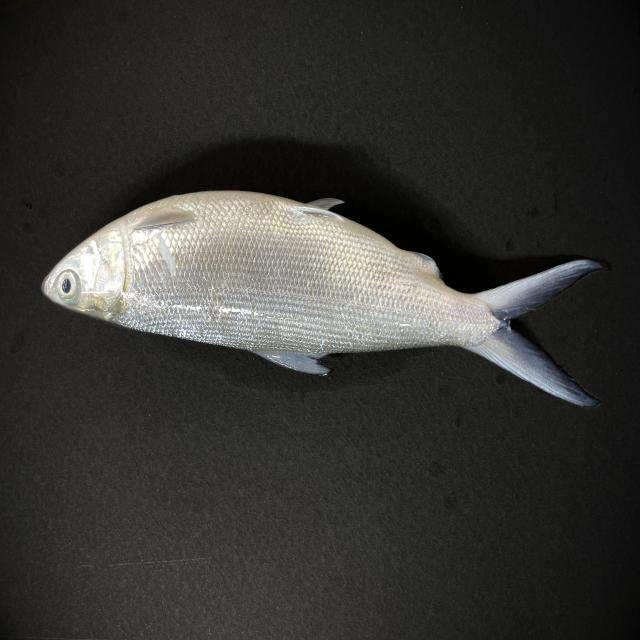675 g: (39, 189, 606, 408)
